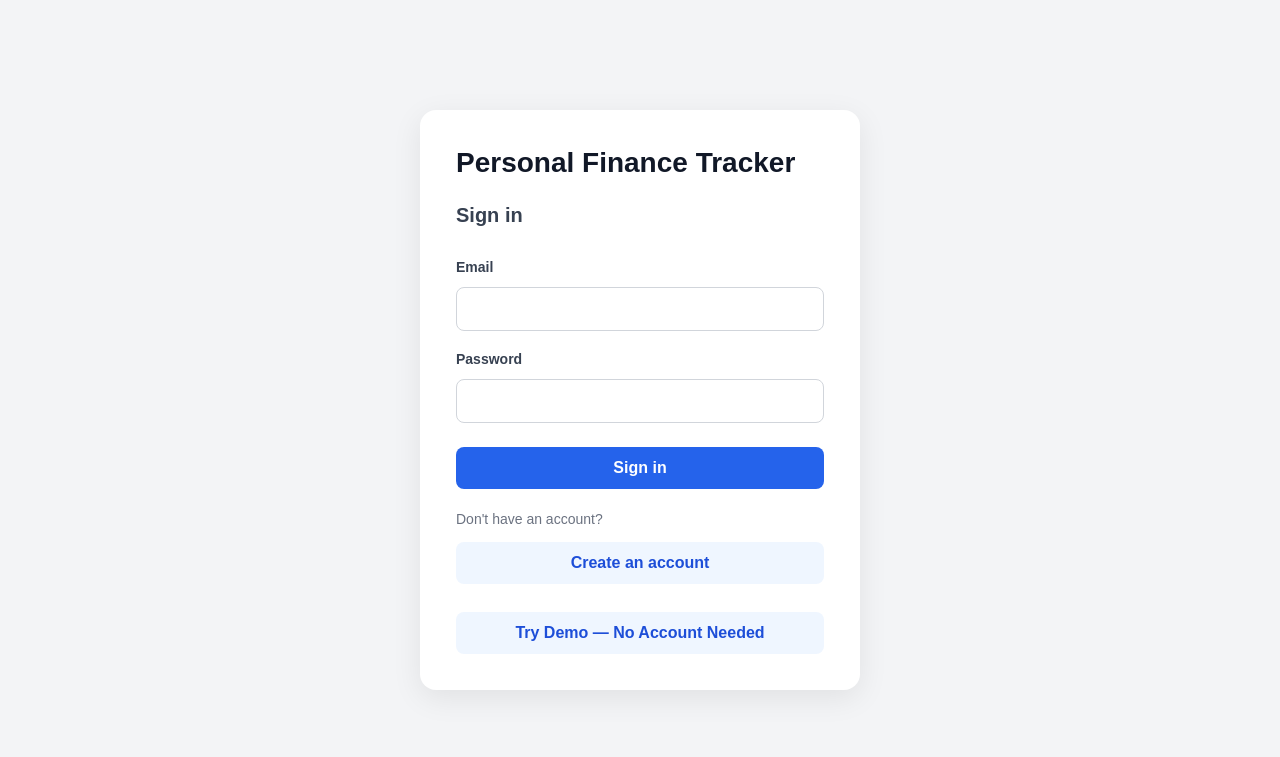
displays the Personal Finance Tracker title
Type "test@example.com" into the field labelled "Email" at (640, 309), box [456,287,824,331]
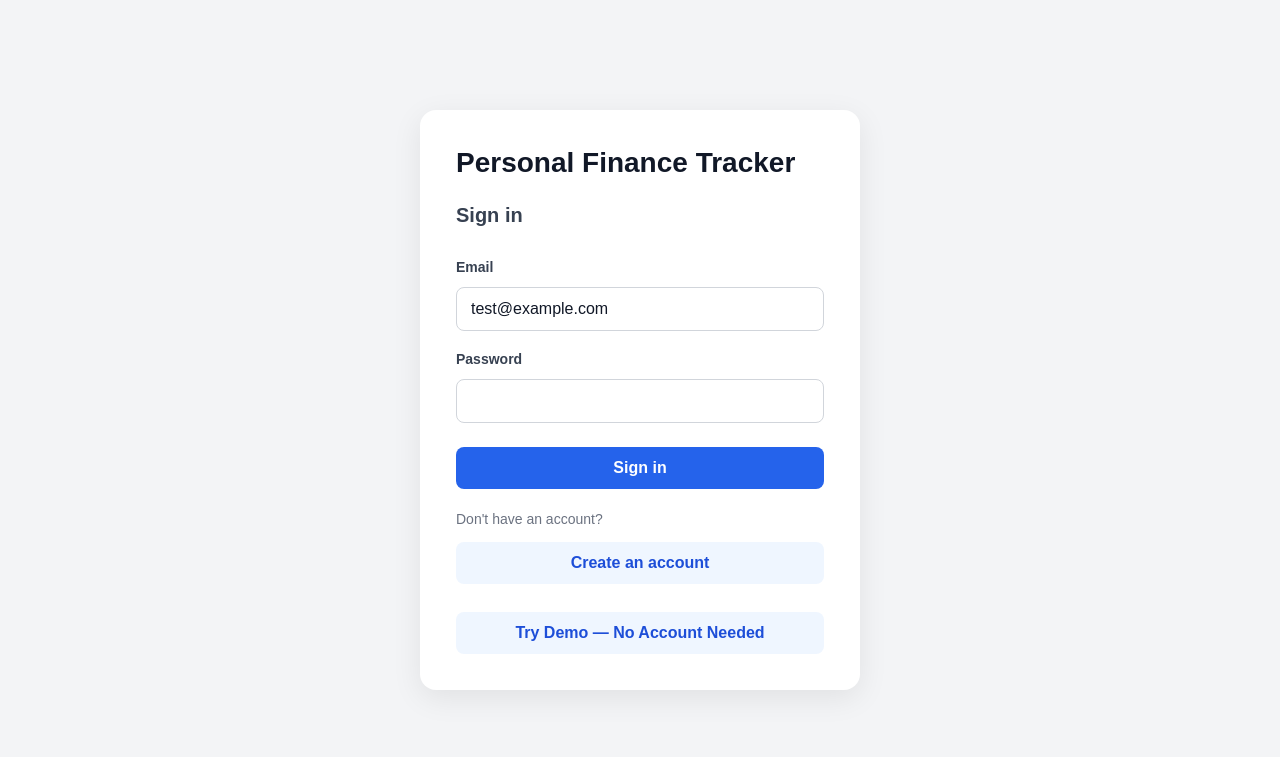
Type "test-password" into the password field labelled "Password" at (640, 401), box [456,379,824,423]
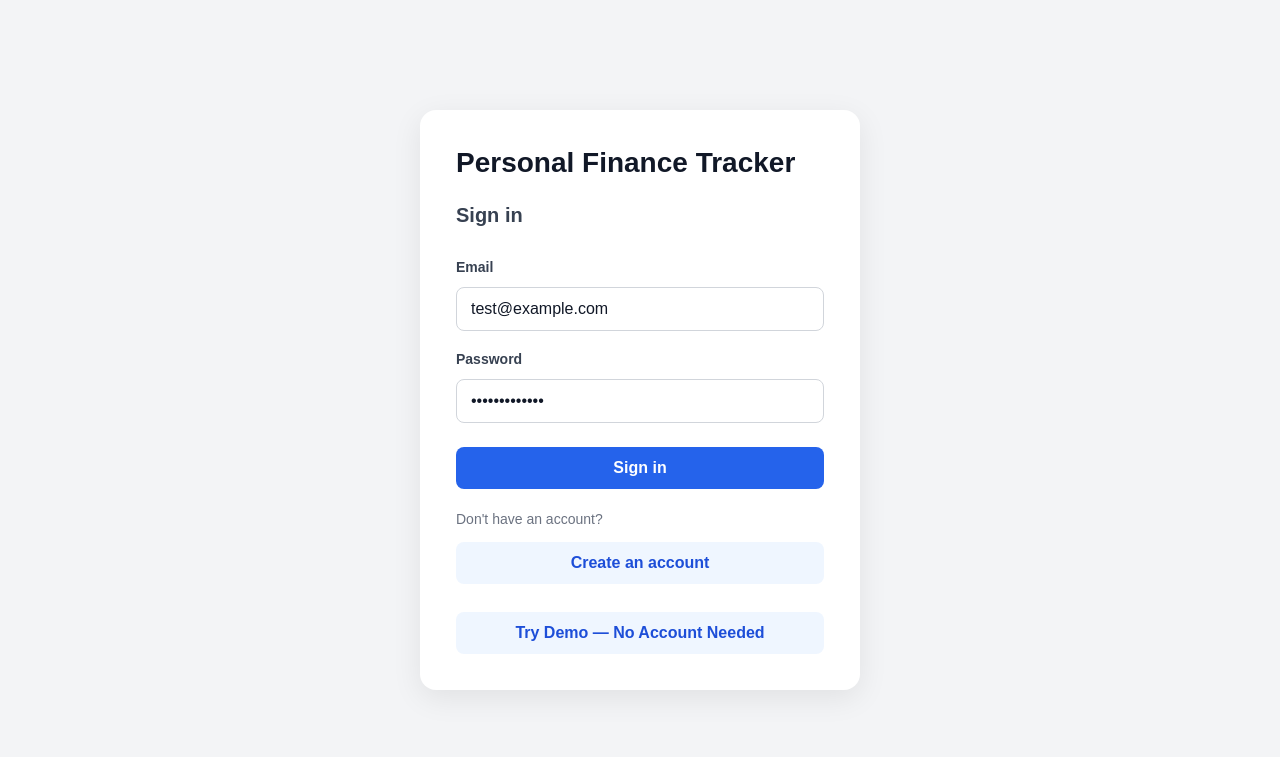
Click the button "Sign in" at (640, 468), box [456,447,824,489]
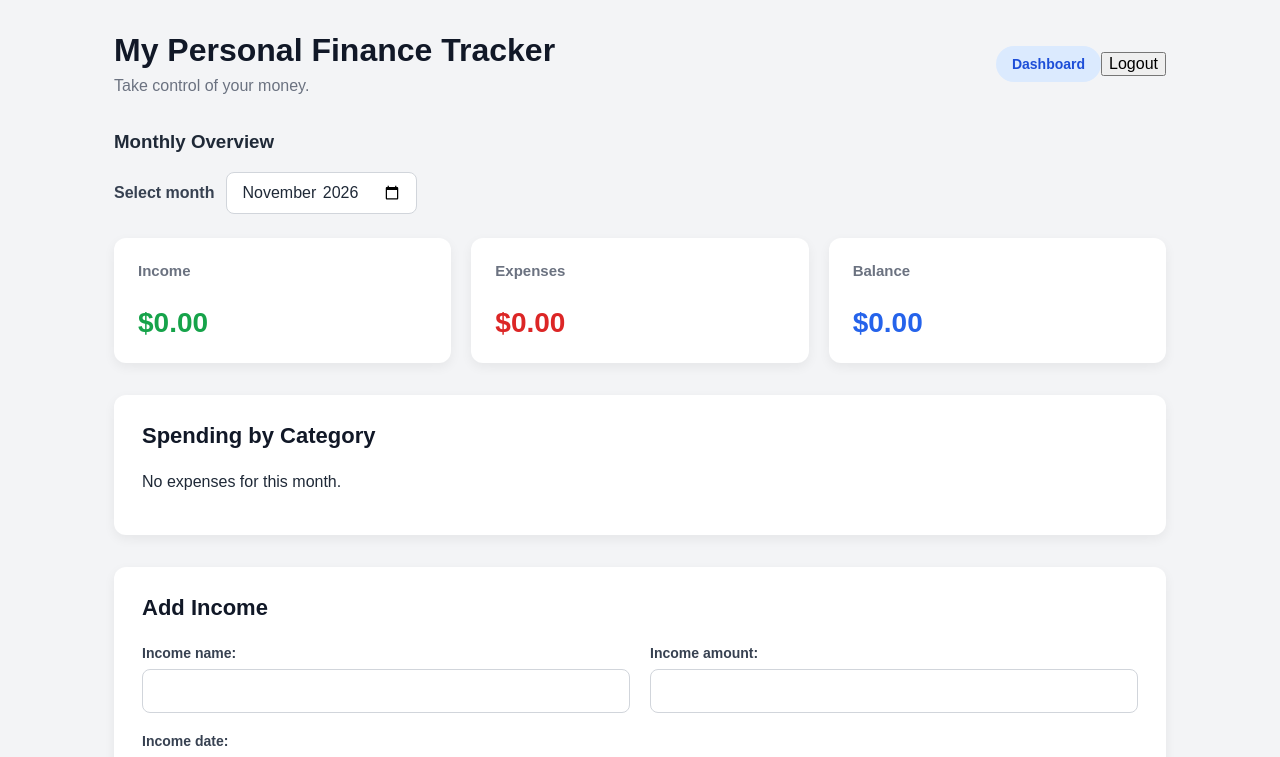
Expected: the heading "My Personal Finance Tracker" is shown, [114,32,555,69]
